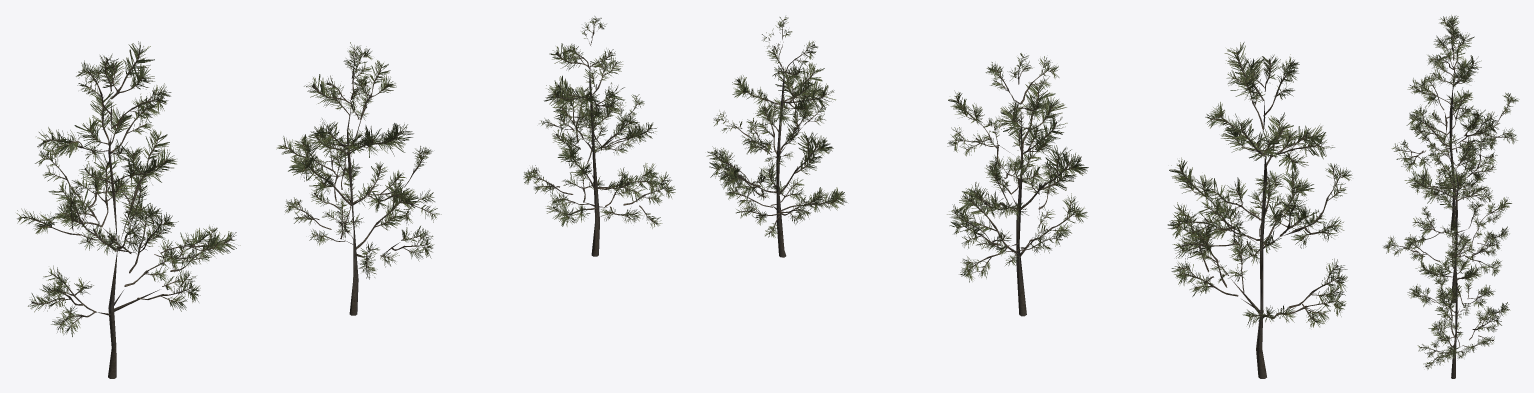
File: pine_sapling_small-lod.glb
3 views of the same model, side by side, from view 1: azimuth 30°, elevation 25°; view 2: azimuth 150°, elevation 25°; view 3: azimuth 270°, elevation 25° (orthographic). The views are drawn at different scales.
Parts seen in each view (by area): view 1: pine_sapling_small_a, pine_sapling_small_b, pine_sapling_small_c; view 2: pine_sapling_small_a, pine_sapling_small_b, pine_sapling_small_c; view 3: pine_sapling_small_a, pine_sapling_small_b, pine_sapling_small_c.
Boxes of the visible parts, box(x1,y1,x2,y2) form: pine_sapling_small_a: box(16, 41, 240, 378); pine_sapling_small_b: box(276, 42, 441, 315); pine_sapling_small_c: box(523, 16, 675, 256); pine_sapling_small_a: box(1167, 42, 1352, 378); pine_sapling_small_b: box(947, 53, 1088, 316); pine_sapling_small_c: box(706, 16, 847, 257); pine_sapling_small_a: box(1391, 15, 1519, 230); pine_sapling_small_b: box(1383, 133, 1511, 303); pine_sapling_small_c: box(1407, 223, 1510, 378).
Bounding box in the file's own units: 2.64 × 1.29 × 0.7692.
2 materials, 2 textured.
